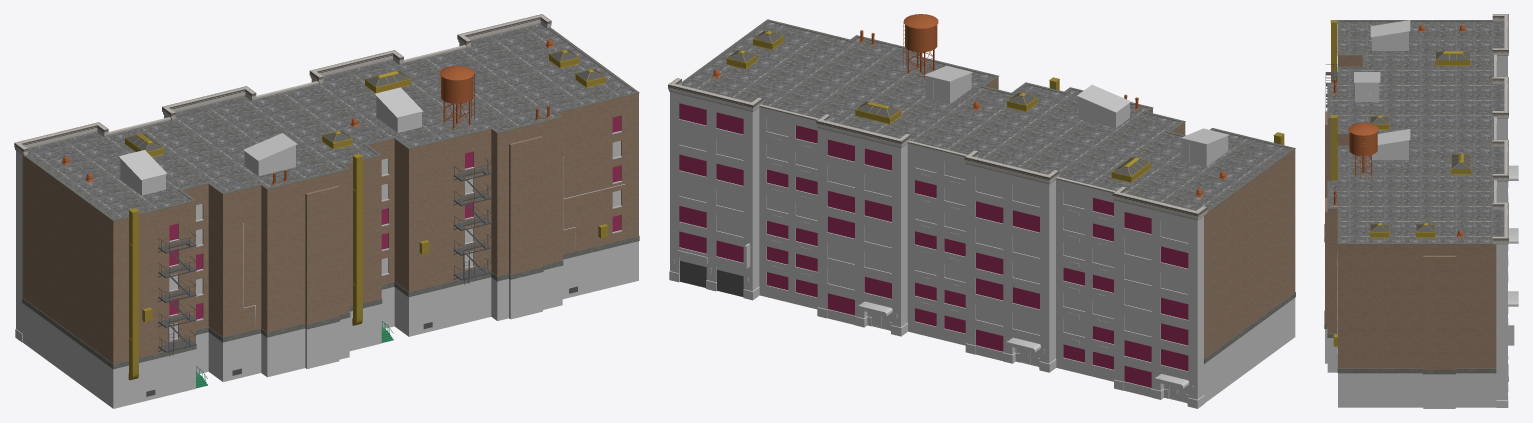
File: mcp_building_28_LOD_0.FBX
The picture shows the model from 3 angles, left to right: view 1: azimuth 30°, elevation 25°; view 2: azimuth 150°, elevation 25°; view 3: azimuth 270°, elevation 25°; orthographic projection. The views are drawn at different scales.
Visible parts, largest first — view 1: mcp_building_28_walls, mcp_building_28_props_01, mcp_building_28_props_02, mcp_building_28, mcp_building_28_metal_roof, mcp_building_28_props_03; view 2: mcp_building_28_walls, mcp_building_28, mcp_building_28_props_01, mcp_building_28_props_03, mcp_building_28_metal_roof, mcp_building_28_props_04; view 3: mcp_building_28_walls, mcp_building_28_props_01, mcp_building_28_props_03, mcp_building_28_metal_roof, mcp_building_28, mcp_building_28_props_02.
Boxes of the visible parts, bbox=[...] form: mcp_building_28_walls: bbox=[14, 14, 639, 408]; mcp_building_28_props_01: bbox=[125, 49, 608, 380]; mcp_building_28_props_02: bbox=[146, 159, 577, 396]; mcp_building_28: bbox=[15, 115, 620, 342]; mcp_building_28_metal_roof: bbox=[118, 87, 423, 180]; mcp_building_28_props_03: bbox=[61, 39, 554, 184]; mcp_building_28_walls: bbox=[668, 19, 1295, 402]; mcp_building_28: bbox=[669, 103, 1204, 408]; mcp_building_28_props_01: bbox=[726, 30, 1284, 182]; mcp_building_28_props_03: bbox=[712, 14, 1227, 197]; mcp_building_28_metal_roof: bbox=[924, 65, 1229, 144]; mcp_building_28_props_04: bbox=[680, 261, 743, 296]; mcp_building_28_walls: bbox=[1324, 14, 1508, 408]; mcp_building_28_props_01: bbox=[1330, 20, 1470, 346]; mcp_building_28_props_03: bbox=[1333, 25, 1465, 237]; mcp_building_28_metal_roof: bbox=[1354, 20, 1410, 145]; mcp_building_28: bbox=[1496, 165, 1518, 407]; mcp_building_28_props_02: bbox=[1325, 64, 1337, 197].
Bounding box in the file's own units: 8513 × 3750 × 3098.
